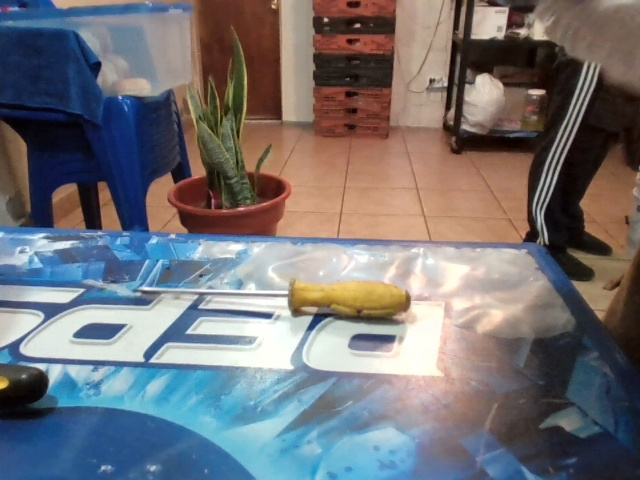destornillador: (110, 276, 413, 324), (0, 359, 147, 408)
